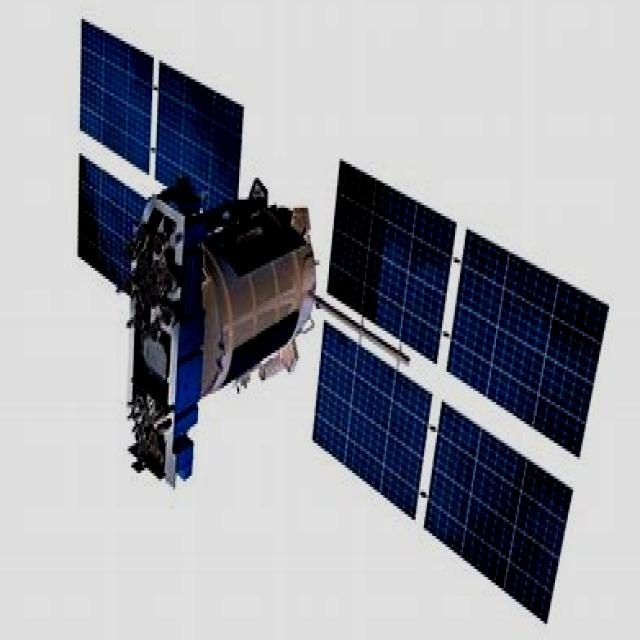satellite: (33, 8, 598, 627)
